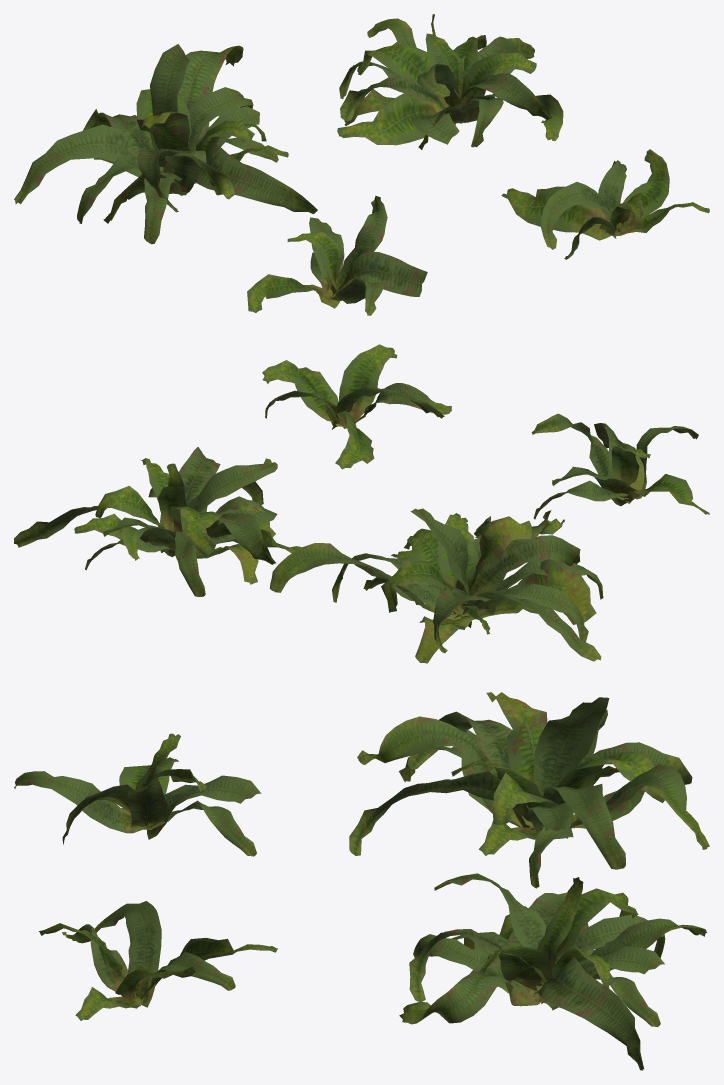
Rendered from fern_02.glb.
3 renders of one model, top to bottom at view 1: azimuth 30°, elevation 25°; view 2: azimuth 150°, elevation 25°; view 3: azimuth 270°, elevation 25°, orthographic. The views are drawn at different scales.
Parts seen in each view (by area): view 1: fern_02_b, fern_02_c, fern_02_d, fern_02_a; view 2: fern_02_b, fern_02_c, fern_02_d, fern_02_a; view 3: fern_02_b, fern_02_c, fern_02_a, fern_02_d.
Boxes of the visible parts, x1,y1,x2,y2 form: fern_02_b: [14, 44, 317, 244]; fern_02_c: [337, 14, 563, 149]; fern_02_d: [501, 149, 709, 259]; fern_02_a: [247, 196, 427, 315]; fern_02_b: [269, 508, 603, 663]; fern_02_c: [14, 447, 301, 596]; fern_02_d: [262, 344, 451, 469]; fern_02_a: [531, 413, 709, 519]; fern_02_b: [349, 692, 709, 888]; fern_02_c: [399, 873, 707, 1070]; fern_02_a: [14, 733, 261, 856]; fern_02_d: [39, 901, 277, 1020].
Bounding box in the file's own units: 1.97 × 0.4277 × 1.72.
Materials: 1 (1 with a texture image).
